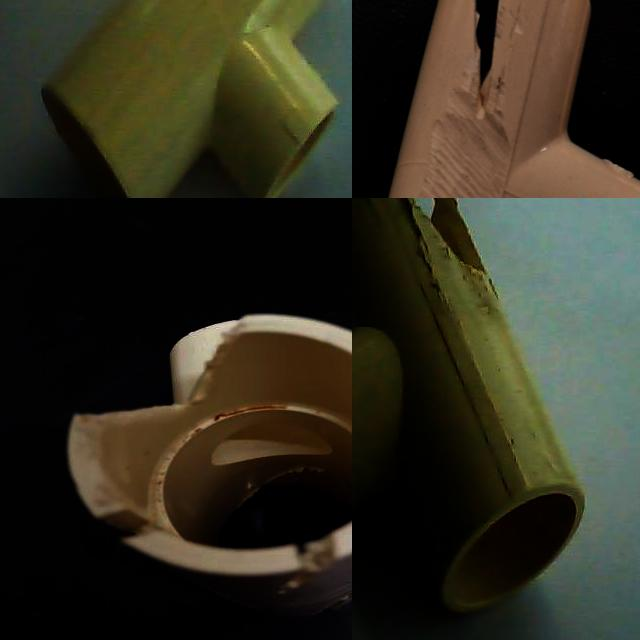Defective: (52, 322, 256, 459), (383, 198, 489, 279), (87, 494, 166, 576), (290, 529, 352, 614)
T Joint: (352, 198, 587, 617), (41, 0, 339, 198), (352, 71, 452, 198)
